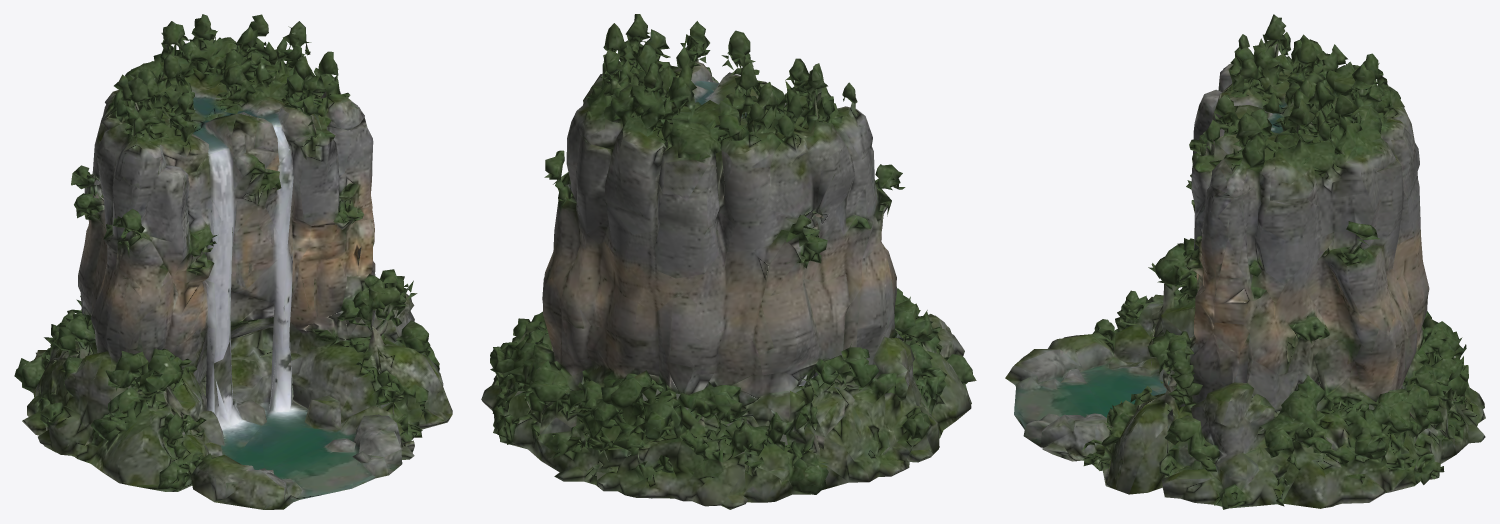
File: av_falls_far.glb
The picture shows the model from 3 angles, left to right: view 1: azimuth 30°, elevation 25°; view 2: azimuth 150°, elevation 25°; view 3: azimuth 270°, elevation 25°; orthographic projection. The views are drawn at different scales.
Visible parts, largest first — view 1: av_falls; view 2: av_falls; view 3: av_falls.
Part boxes in pixels (bbox=[...]): av_falls: bbox=[14, 14, 452, 509]; av_falls: bbox=[481, 14, 976, 509]; av_falls: bbox=[1005, 14, 1485, 509].
Bounding box in the file's own units: 1.78 × 1.56 × 1.88.
1 material, 1 textured.
